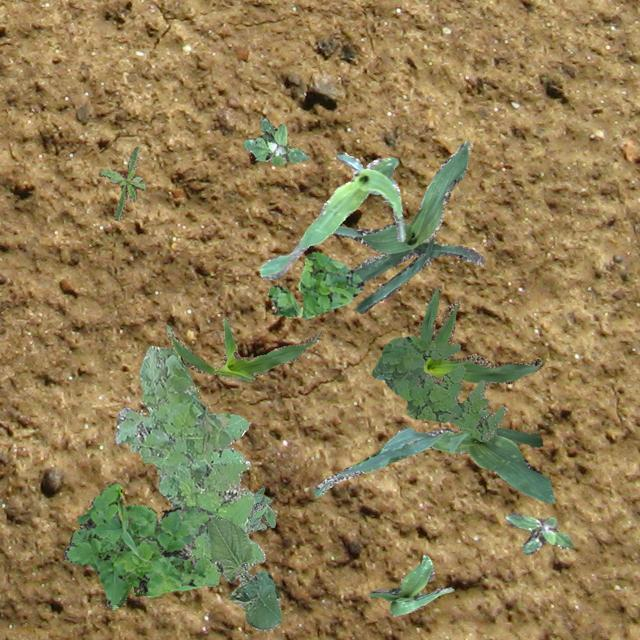crop: (331, 140, 484, 312), (260, 150, 404, 278), (311, 426, 553, 502), (418, 284, 542, 382), (164, 318, 320, 380), (203, 514, 280, 630), (368, 554, 452, 616)
weed: (114, 344, 264, 586), (62, 482, 210, 608), (370, 334, 504, 440), (266, 250, 362, 318), (98, 146, 144, 218), (242, 118, 306, 164), (504, 512, 570, 554), (244, 486, 274, 536)
